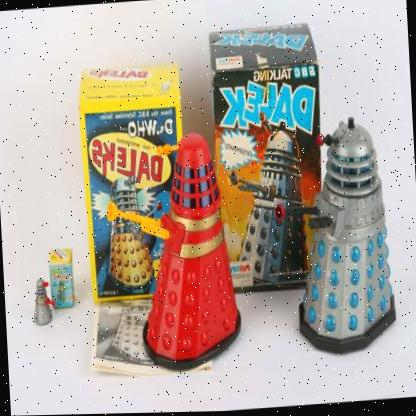dalek: (100, 125, 242, 379), (280, 109, 408, 365), (226, 113, 322, 293), (90, 175, 170, 315), (19, 275, 62, 330)
